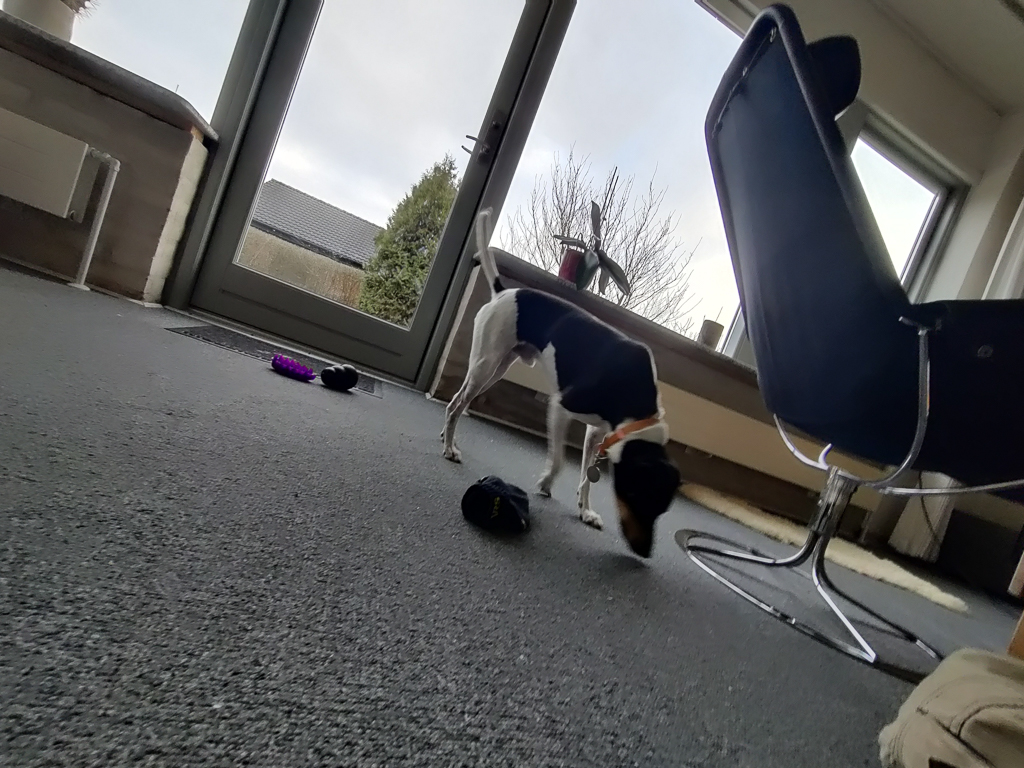Dog: (433, 192, 704, 574)
